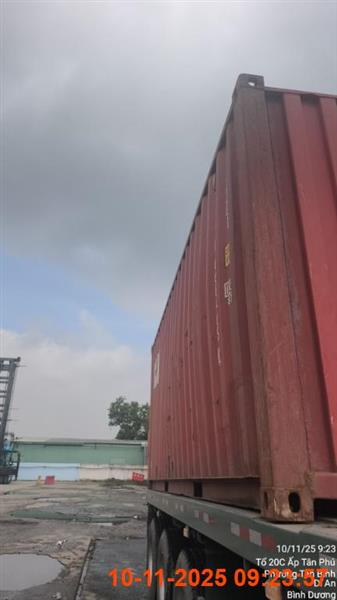hole: (142, 74, 335, 599)
